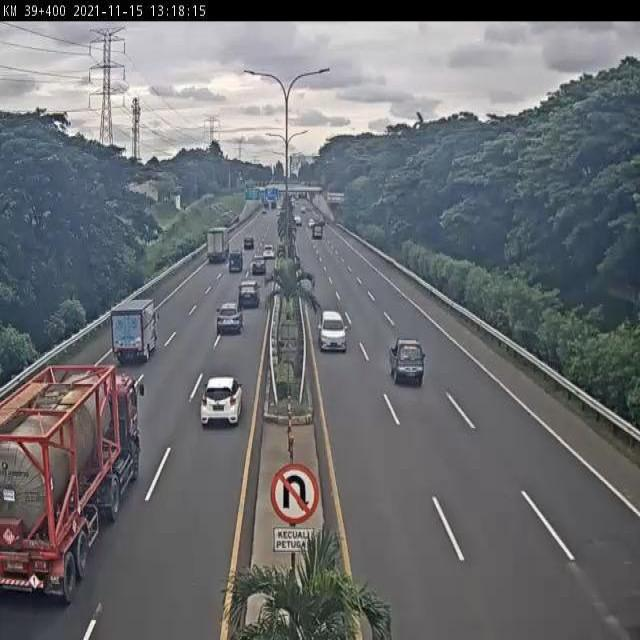car: (200, 375, 244, 429), (318, 308, 348, 353), (214, 302, 243, 338), (237, 280, 260, 309), (250, 253, 267, 276)
truck-s-: (110, 295, 158, 364), (388, 333, 427, 387)
truck-xl-: (1, 365, 142, 608)
